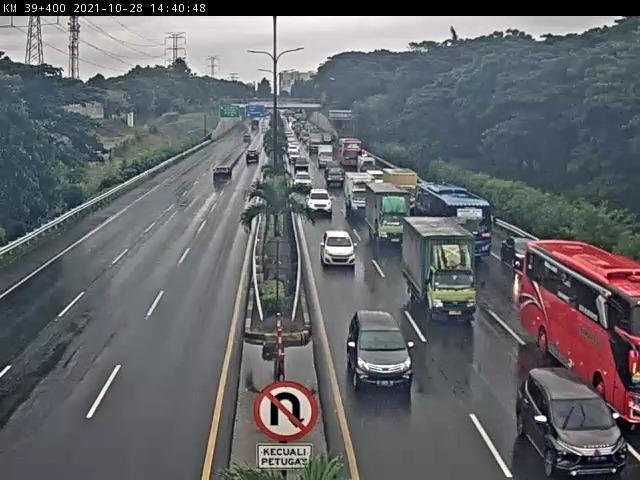bus: (526, 240, 640, 419), (413, 183, 494, 260)
car: (519, 365, 632, 477), (346, 310, 417, 393), (321, 232, 358, 271), (501, 236, 537, 271), (306, 189, 336, 218)
truck: (401, 217, 479, 322), (366, 181, 412, 247), (345, 172, 378, 218)
